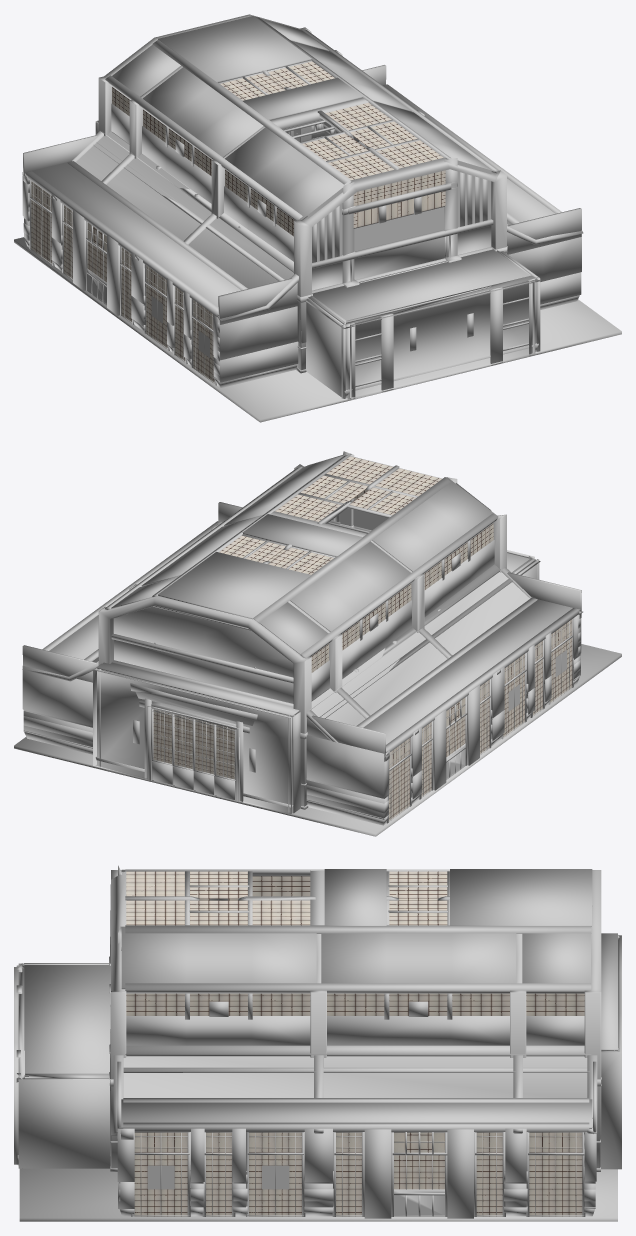
3 views of the same model, one above another, from view 1: azimuth 30°, elevation 25°; view 2: azimuth 150°, elevation 25°; view 3: azimuth 270°, elevation 25° (orthographic). The views are drawn at different scales.
Visible parts, largest first — view 1: Opaque, Mesh_8.001; view 2: Opaque, Mesh_8.001; view 3: Opaque, Mesh_8.001.
Part boxes in pixels (box(x1,y1,x2,y2)): Opaque: box(14, 14, 621, 422); Mesh_8.001: box(31, 61, 445, 383); Opaque: box(14, 451, 621, 836); Mesh_8.001: box(153, 456, 572, 821); Opaque: box(14, 865, 621, 1221); Mesh_8.001: box(126, 871, 584, 1216).
Bounding box in the file's own units: 1919 × 901 × 2286.
